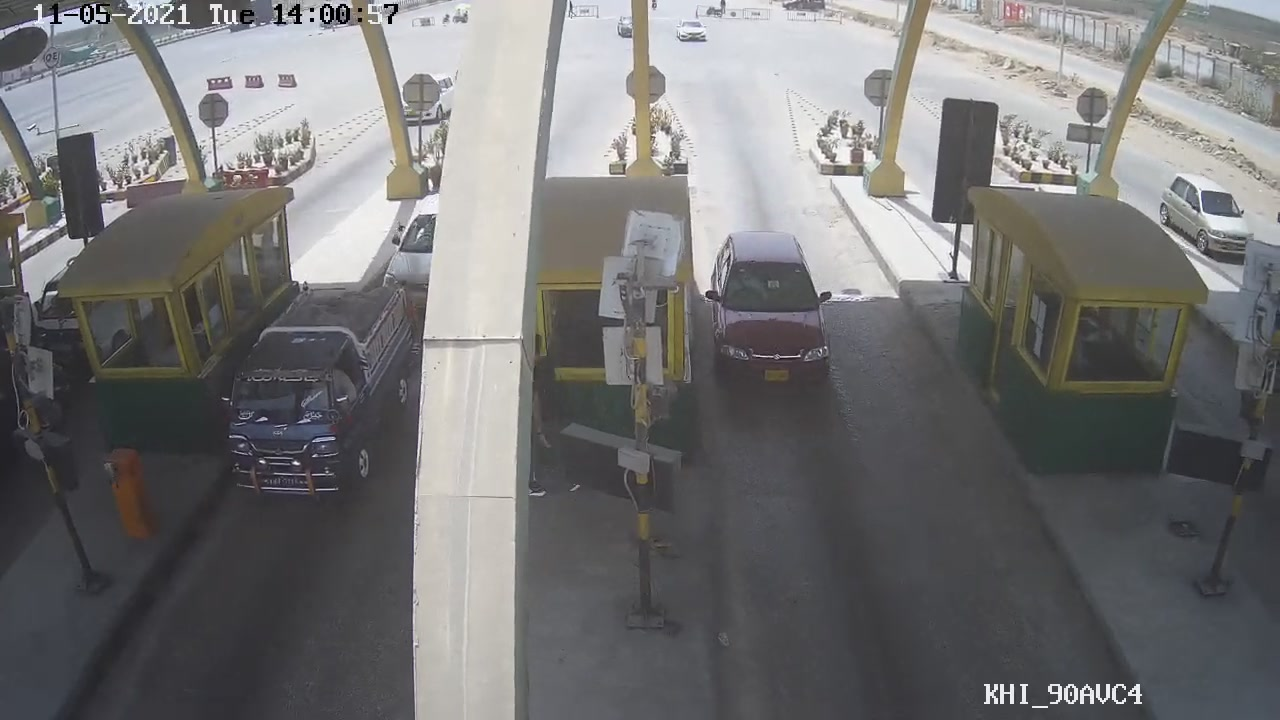F1: (696, 215, 848, 392)
